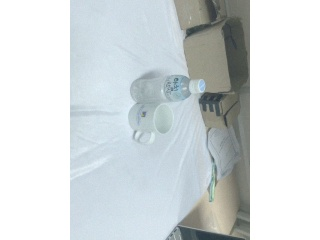bottle: (130, 75, 206, 103)
box: (184, 18, 249, 93), (169, 1, 220, 30)
cup: (128, 102, 174, 145)
